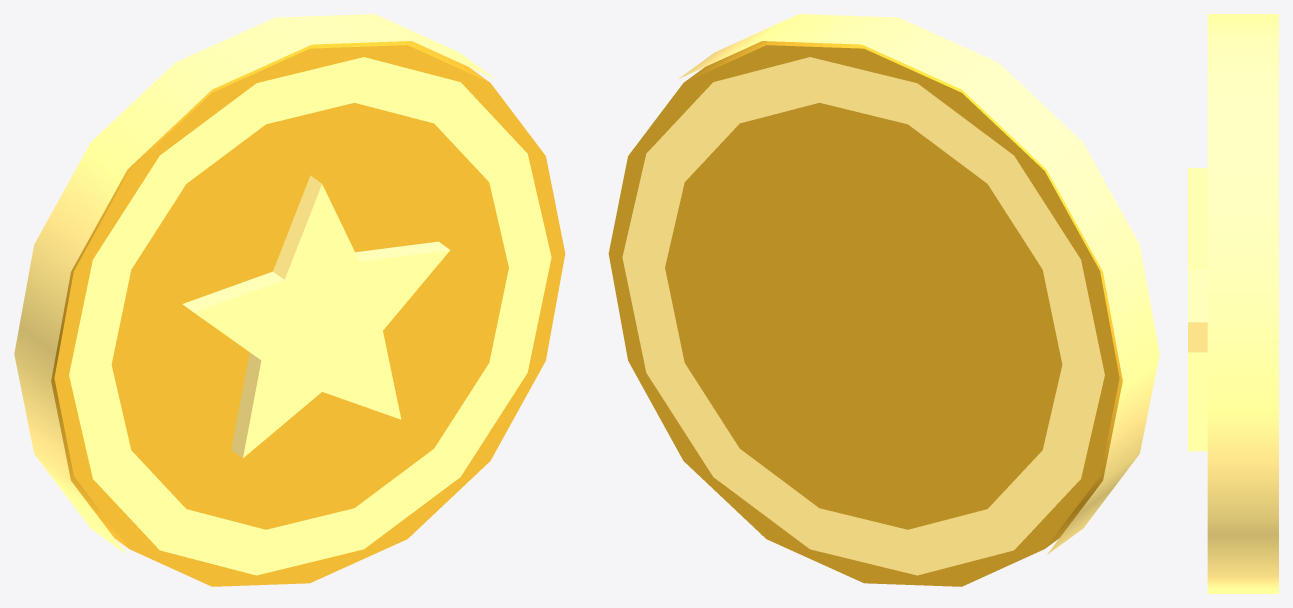
The model's file is gold-coin.glb.
3 renders of one model, left to right at view 1: azimuth 30°, elevation 25°; view 2: azimuth 150°, elevation 25°; view 3: azimuth 270°, elevation 25°, orthographic. The views are drawn at different scales.
Parts seen in each view (by area): view 1: Merged_coin-gold, Merged_coin-highlight; view 2: Merged_coin-gold, Merged_coin-highlight; view 3: Merged_coin-highlight.
Part boxes in pixels (x1,y1,x2,y2): Merged_coin-gold: [51, 41, 565, 586]; Merged_coin-highlight: [14, 14, 551, 575]; Merged_coin-gold: [608, 41, 1122, 586]; Merged_coin-highlight: [622, 14, 1159, 575]; Merged_coin-highlight: [1188, 14, 1278, 593].
Size of what is drawn, in the model's own units: 1.47 by 1.47 by 0.23.
